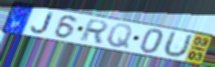0: (138, 28, 166, 54)
6: (54, 14, 80, 39)
J: (30, 11, 55, 35)
Q: (106, 23, 135, 50)
R: (77, 18, 111, 45)
U: (160, 30, 195, 59)
